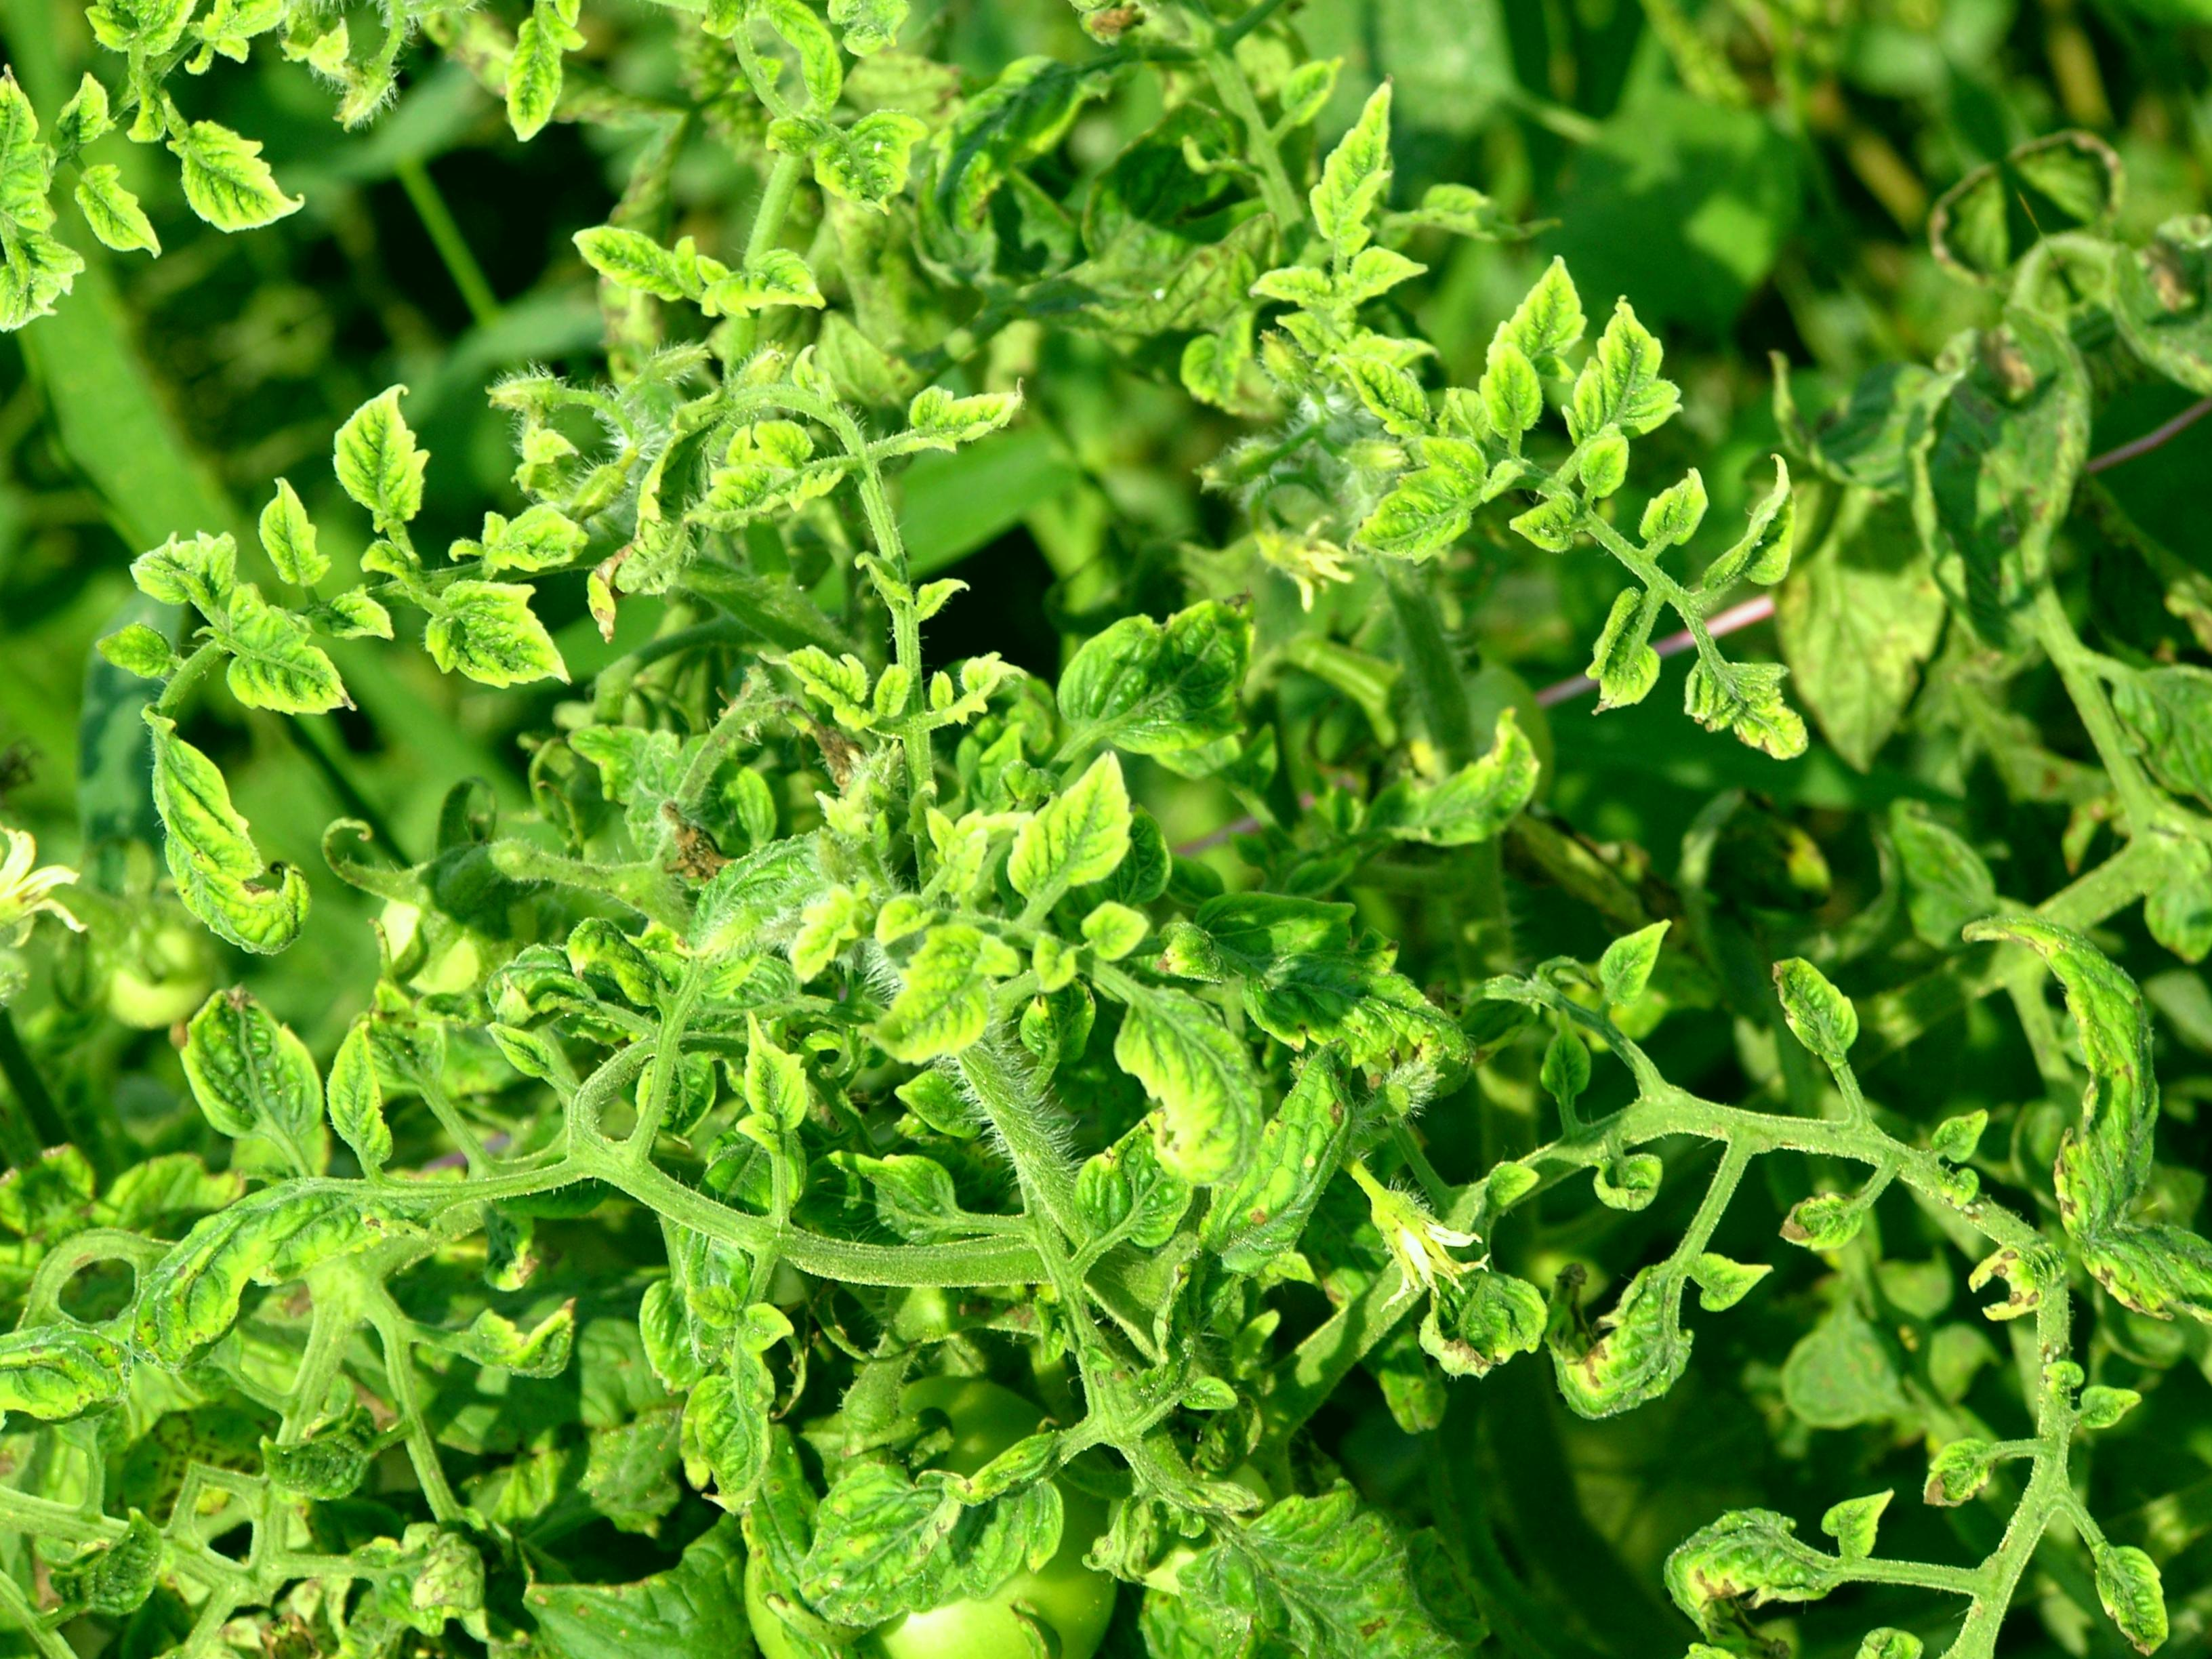Tomato leaf yellow virus: (679, 1356, 1146, 1659), (1926, 880, 2212, 1255), (1012, 535, 1350, 835), (796, 828, 1118, 1117), (597, 1276, 873, 1589), (1143, 1018, 1437, 1304), (96, 695, 343, 1002), (1494, 1211, 1764, 1464), (1500, 291, 1743, 549), (150, 528, 388, 791), (1078, 958, 1303, 1213), (949, 709, 1193, 943), (392, 526, 618, 769), (150, 964, 362, 1202), (268, 347, 479, 568), (1634, 613, 1846, 828), (1244, 68, 1460, 274), (658, 373, 876, 552), (787, 64, 988, 251), (881, 335, 1068, 505), (1453, 253, 1611, 399), (705, 223, 850, 369), (660, 1596, 972, 1659)
